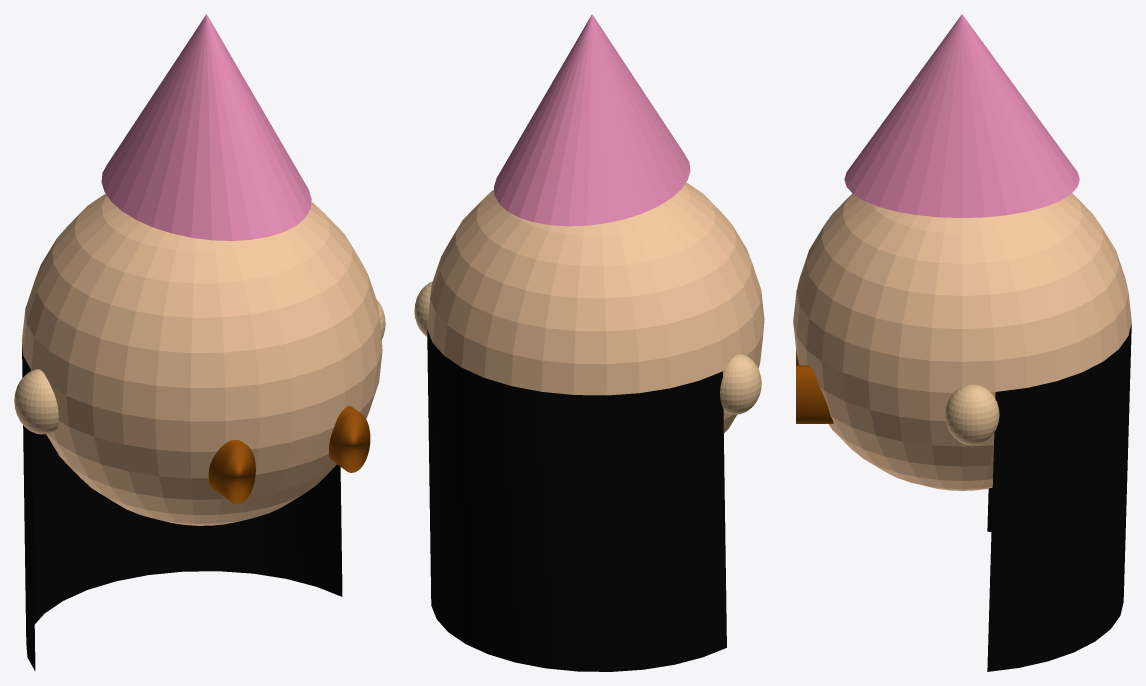
3 views of the same model, side by side, from view 1: azimuth 30°, elevation 25°; view 2: azimuth 150°, elevation 25°; view 3: azimuth 270°, elevation 25° (orthographic). The views are drawn at different scales.
Parts seen in each view (by area): view 1: Sphere, Sphere.001, Cone, Circle.002, Sphere.002, Circle.001; view 2: Sphere.001, Sphere, Cone, Sphere.002, Sphere.003; view 3: Sphere, Sphere.001, Cone, Sphere.003, Circle.001.
Part boxes in pixels (left/top/right/bottom): Sphere: left=22, top=194, right=382, bottom=525; Sphere.001: left=22, top=344, right=342, bottom=670; Cone: left=101, top=14, right=311, bottom=240; Circle.002: left=208, top=439, right=255, bottom=504; Sphere.002: left=14, top=369, right=58, bottom=434; Circle.001: left=329, top=406, right=370, bottom=472; Sphere.001: left=427, top=330, right=726, bottom=671; Sphere: left=427, top=182, right=764, bottom=432; Cone: left=494, top=14, right=690, bottom=226; Sphere.002: left=720, top=354, right=761, bottom=414; Sphere.003: left=414, top=281, right=432, bottom=336; Sphere: left=793, top=193, right=1131, bottom=490; Sphere.001: left=987, top=323, right=1131, bottom=671; Cone: left=844, top=14, right=1079, bottom=217; Sphere.003: left=945, top=384, right=999, bottom=445; Circle.001: left=796, top=365, right=833, bottom=423.
Size of the model in its own units: 2.32 by 3.84 by 2.
